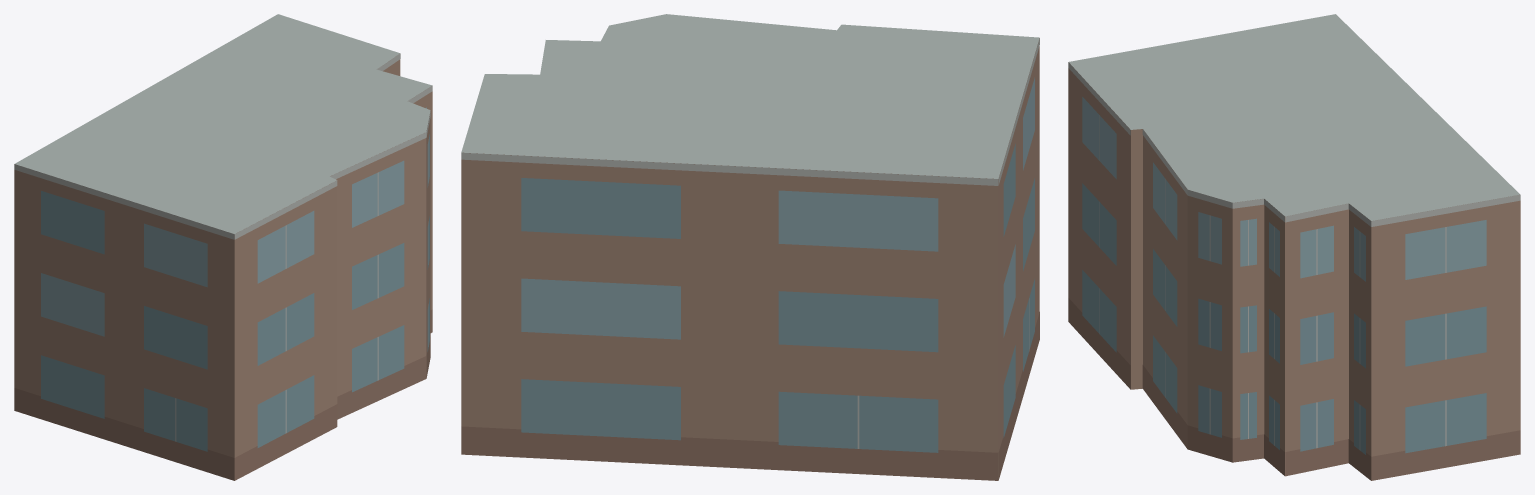
The model's file is survey-upis-32747873.glb.
3 views of the same model, side by side, from view 1: azimuth 30°, elevation 25°; view 2: azimuth 150°, elevation 25°; view 3: azimuth 270°, elevation 25° (orthographic). The views are drawn at different scales.
Parts seen in each view (by area): view 1: survey-upis-32747873.tmp; view 2: survey-upis-32747873.tmp; view 3: survey-upis-32747873.tmp.
Boxes of the visible parts, <box> form: survey-upis-32747873.tmp: <box>14,14,432,480</box>; survey-upis-32747873.tmp: <box>461,14,1039,480</box>; survey-upis-32747873.tmp: <box>1068,14,1520,480</box>.
Bounding box in the file's own units: 17.96 × 10.5 × 16.57.
